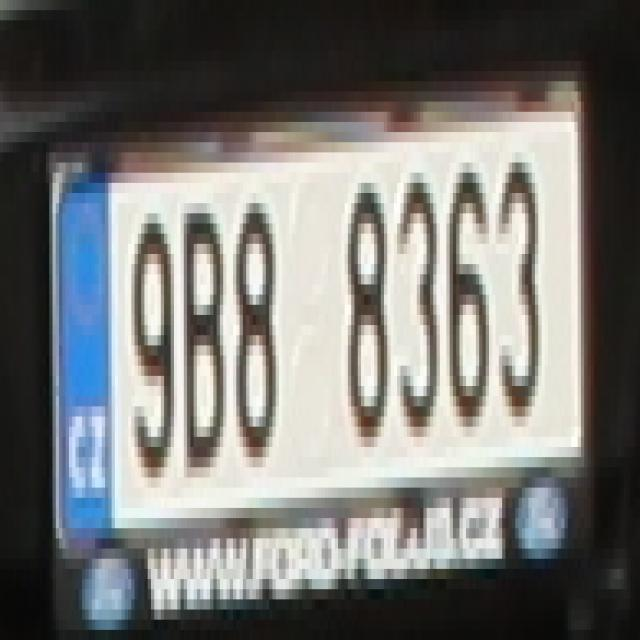3: (390, 162, 440, 426), (502, 152, 542, 416)
6: (443, 162, 489, 406)
8: (230, 203, 279, 447), (348, 183, 384, 427)
9: (131, 223, 174, 468)
B: (180, 203, 223, 467)
